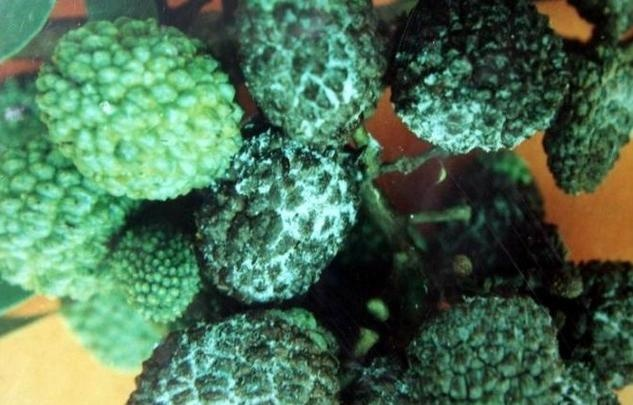Frost_Blight: (244, 147, 346, 300), (250, 10, 382, 118), (157, 323, 324, 401), (397, 51, 504, 142)
